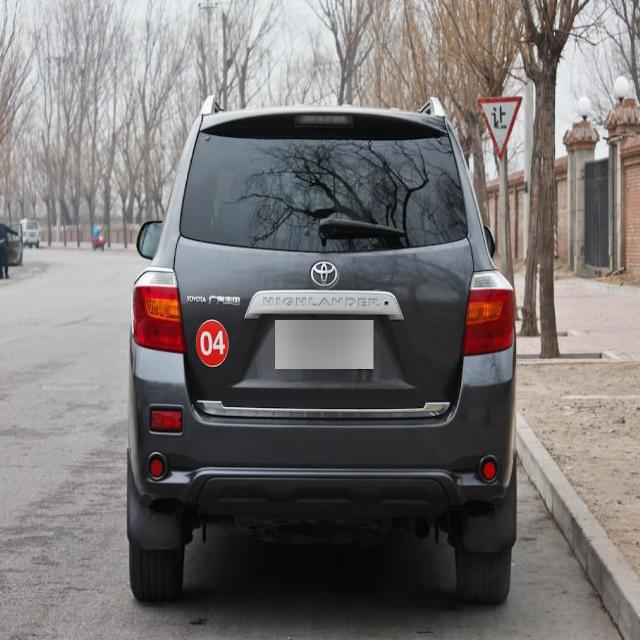back_glass: (178, 117, 469, 256)
back_left_side_light: (130, 266, 186, 353)
back_right_side_light: (462, 267, 516, 359)
front_left_side_mirror: (138, 213, 164, 264)
front_right_side_mirror: (482, 220, 498, 260)
rear_bumper: (125, 348, 517, 506)
wheel: (126, 507, 187, 603), (458, 513, 513, 604)
